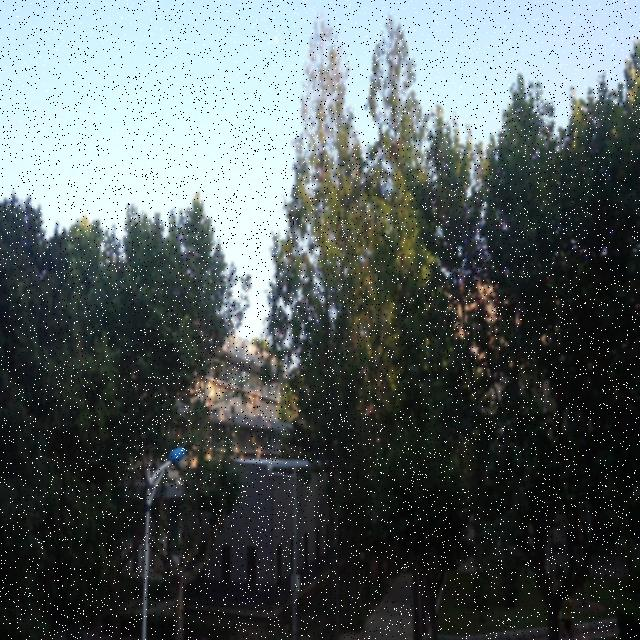UAV: (187, 245, 201, 261)
